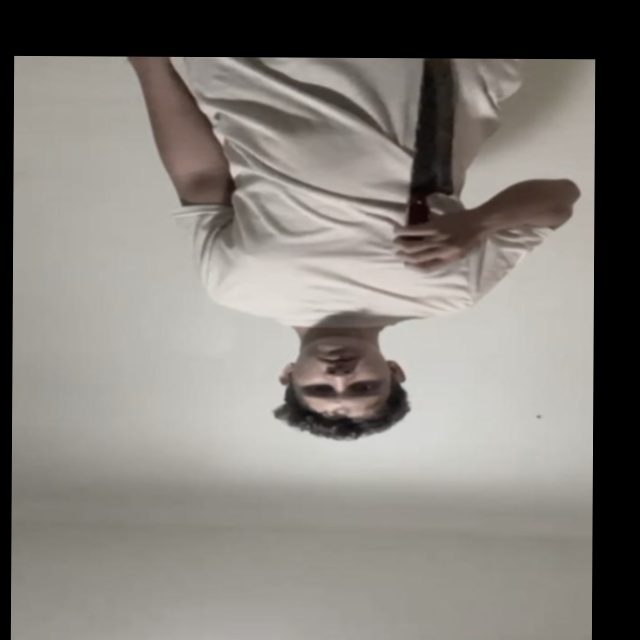Sharp-Object: (414, 58, 458, 197)
